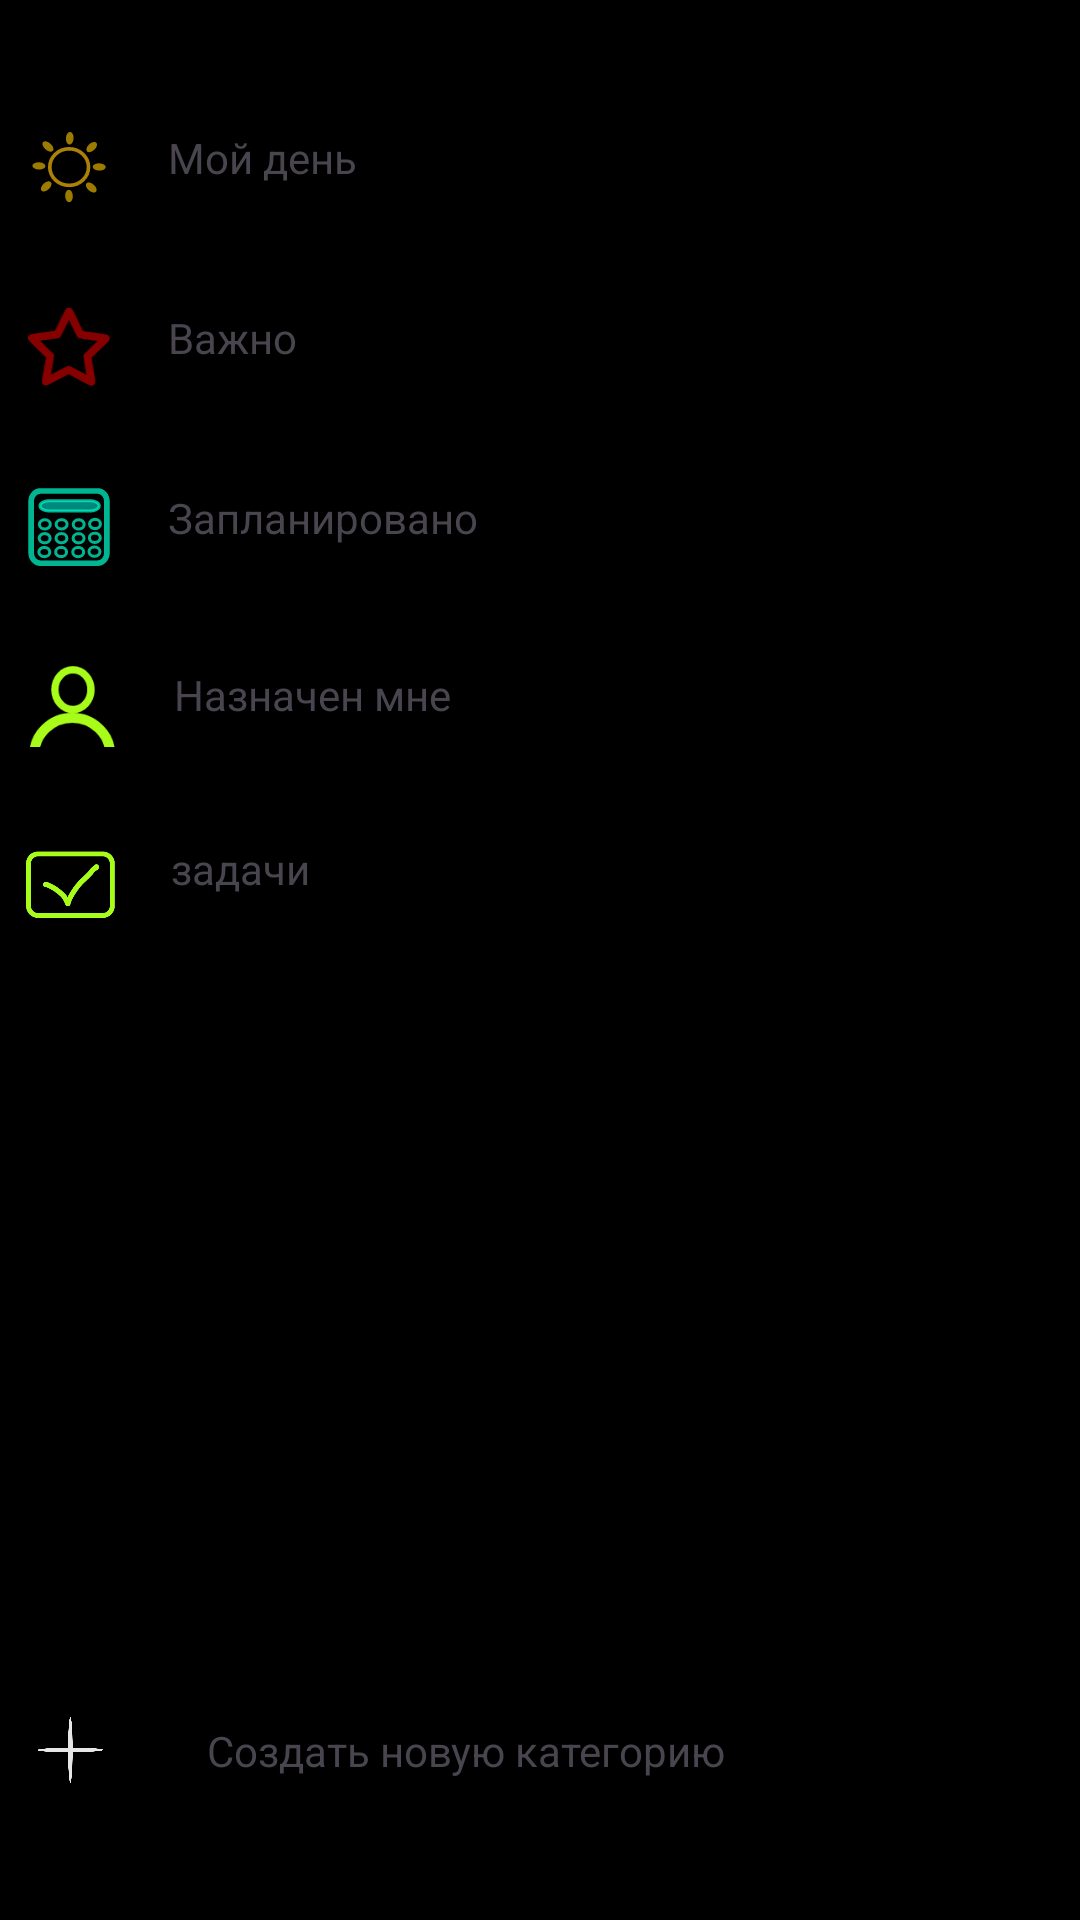

Icons on this 1080w x 1920h Android screen, each with the point to tap as (x,y):
chel: (72,706)
plus: (70,1750)
star: (69,347)
sun: (69,167)
